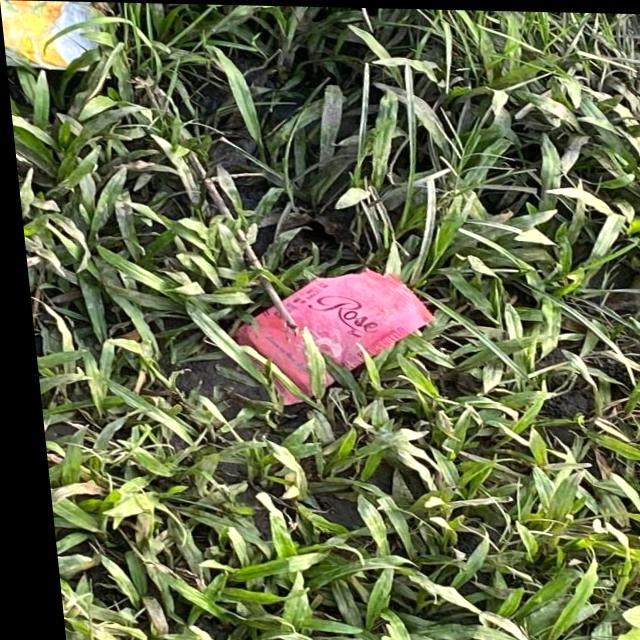packet: (202, 265, 430, 387), (0, 0, 115, 76)
